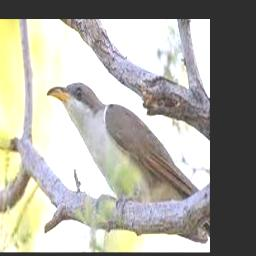Cuckoo: (47, 81, 201, 203)
